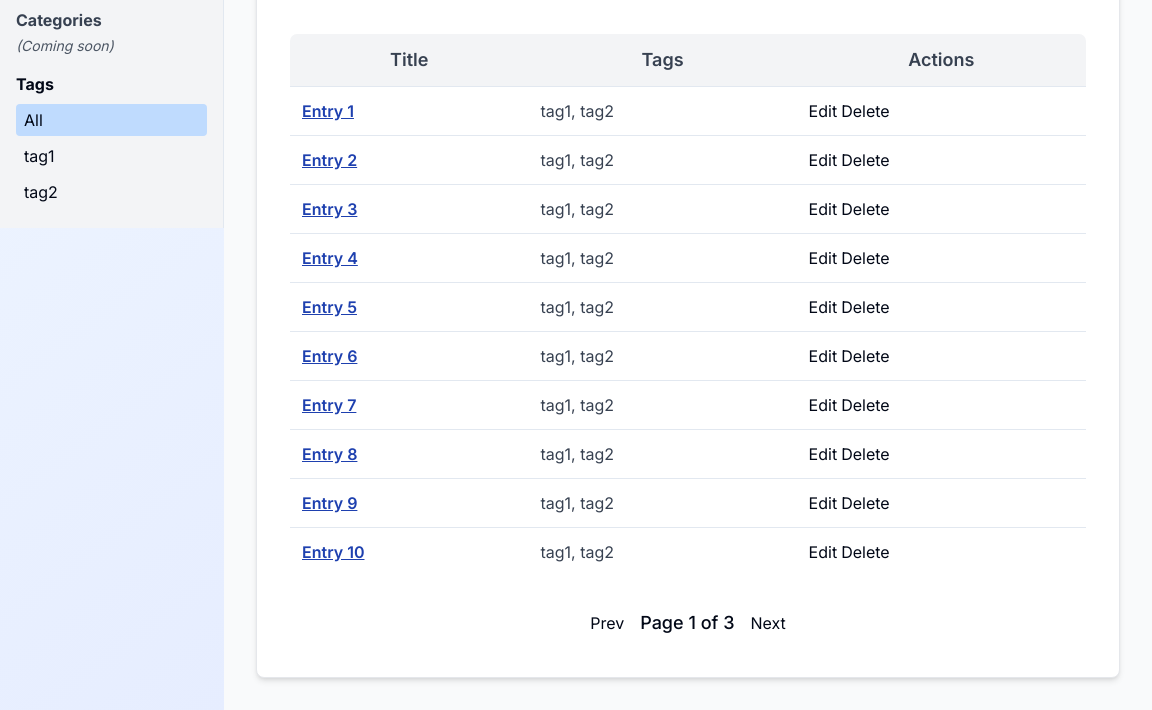
Test: AdminWiki › AdminWiki pagination › shows only the first page of entries and paginates
The image size is (1152, 710).
(page scrolled)
Expected: the text "Entry 1" is shown, [290, 86, 528, 136]
Expected: the text "Entry 2" is shown, [290, 136, 528, 184]
// Go to next page
Click the button "Next".
click(768, 623)  # box [750, 611, 786, 635]
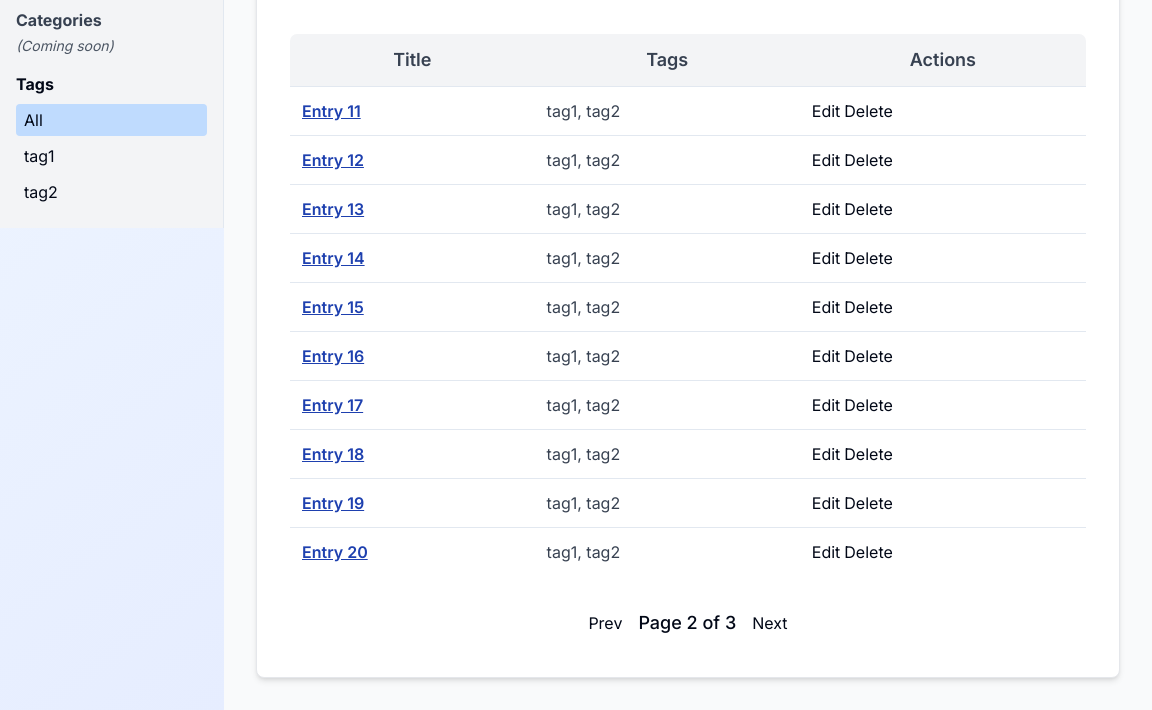
Expected: the text "Entry 11" is shown, [290, 86, 535, 136]
Expected: the text "Entry 20" is shown, [290, 528, 535, 576]
Expected: the text "Entry 10" is gone
// Go to last page
Click the button "Next".
click(770, 623)  # box [752, 611, 788, 635]
(page scrolled)
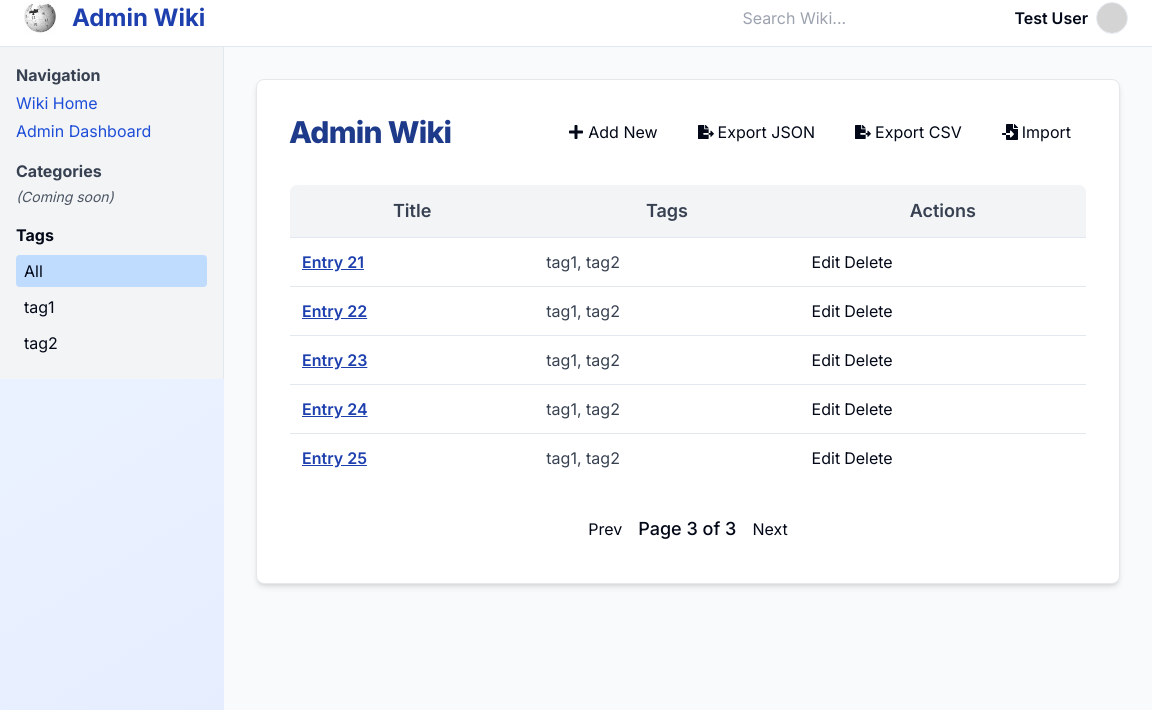
Expected: the text "Entry 21" is shown, [290, 238, 534, 286]
Expected: the text "Entry 25" is shown, [290, 434, 534, 482]
Expected: the text "Entry 20" is gone
// Previous page
Click the button "Prev".
click(605, 529)  # box [588, 517, 622, 541]
(page scrolled)
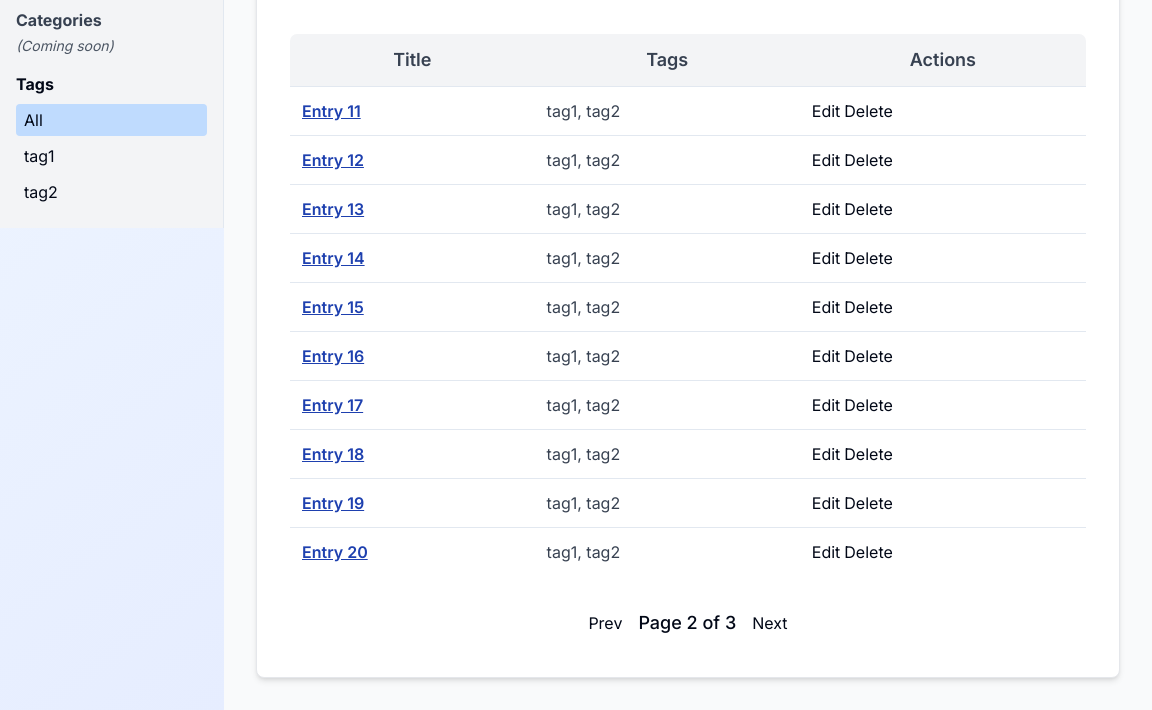
Expected: the text "Entry 11" is shown, [290, 86, 535, 136]
Expected: the text "Page 2 of 3" is shown, [638, 609, 736, 637]
